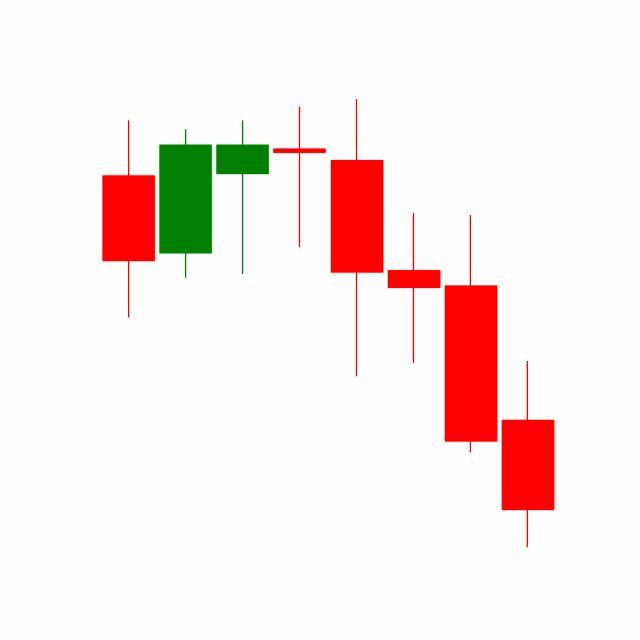Hikkake Pattern: (214, 100, 501, 458)
